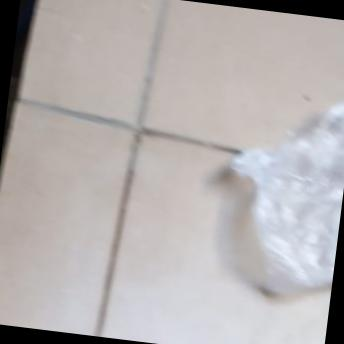Plastik: (212, 85, 344, 296)
